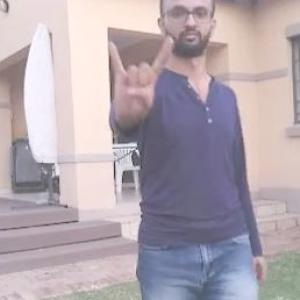takeoff-hand: (97, 29, 180, 135)
